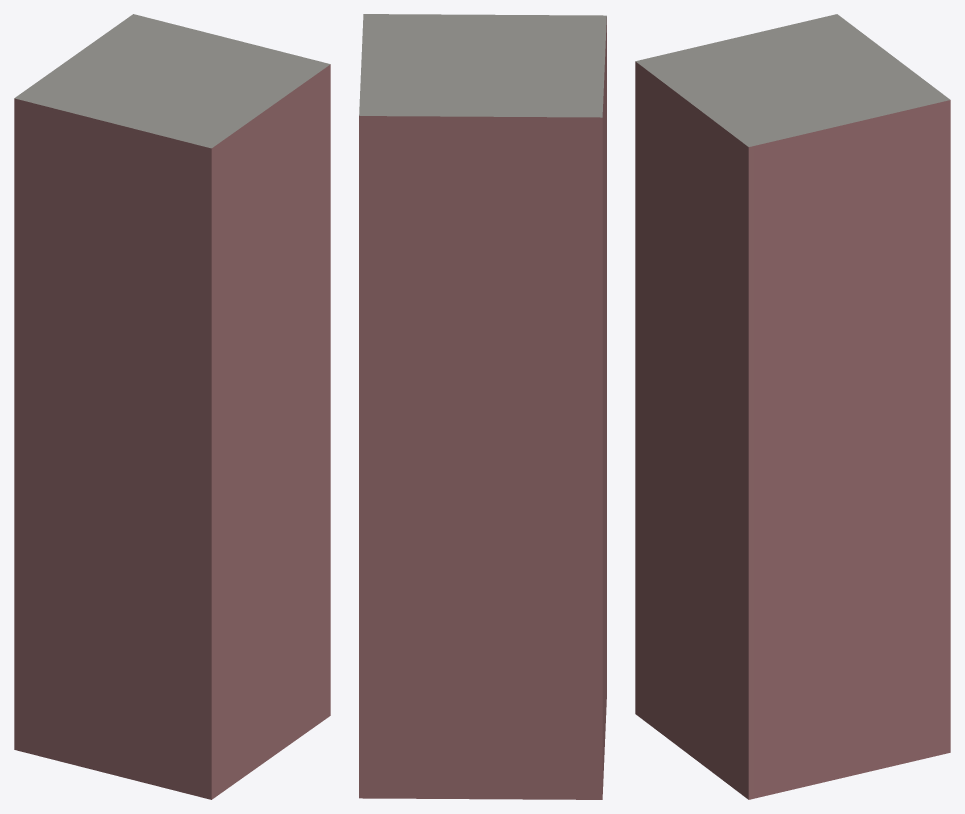
Rendered from nyc-1014501-0.glb.
3 views of the same model, side by side, from view 1: azimuth 30°, elevation 25°; view 2: azimuth 150°, elevation 25°; view 3: azimuth 270°, elevation 25° (orthographic). The views are drawn at different scales.
Visible parts, largest first — view 1: nyc-1014501-0; view 2: nyc-1014501-0; view 3: nyc-1014501-0.
Part boxes in pixels (x1=…): nyc-1014501-0: x1=14, y1=14, x2=330, y2=799; nyc-1014501-0: x1=359, y1=14, x2=606, y2=799; nyc-1014501-0: x1=635, y1=14, x2=950, y2=799.
Size of the model in its own units: 41.29 by 94.33 by 41.31.
